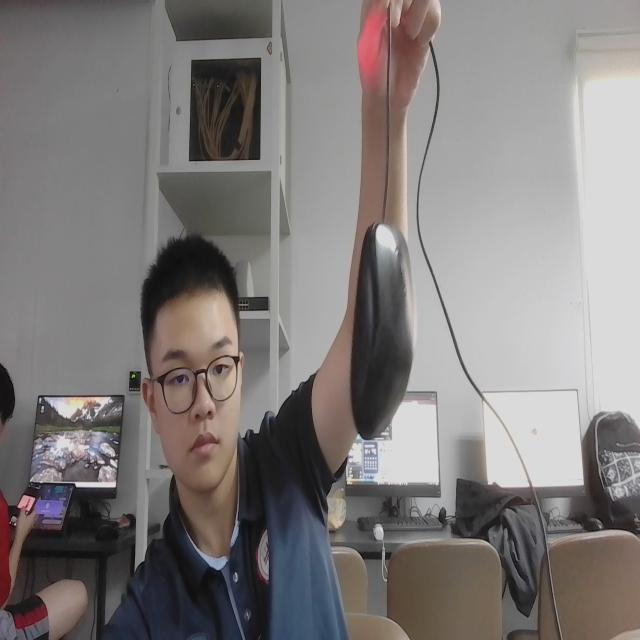mouse: (345, 212, 420, 452)
